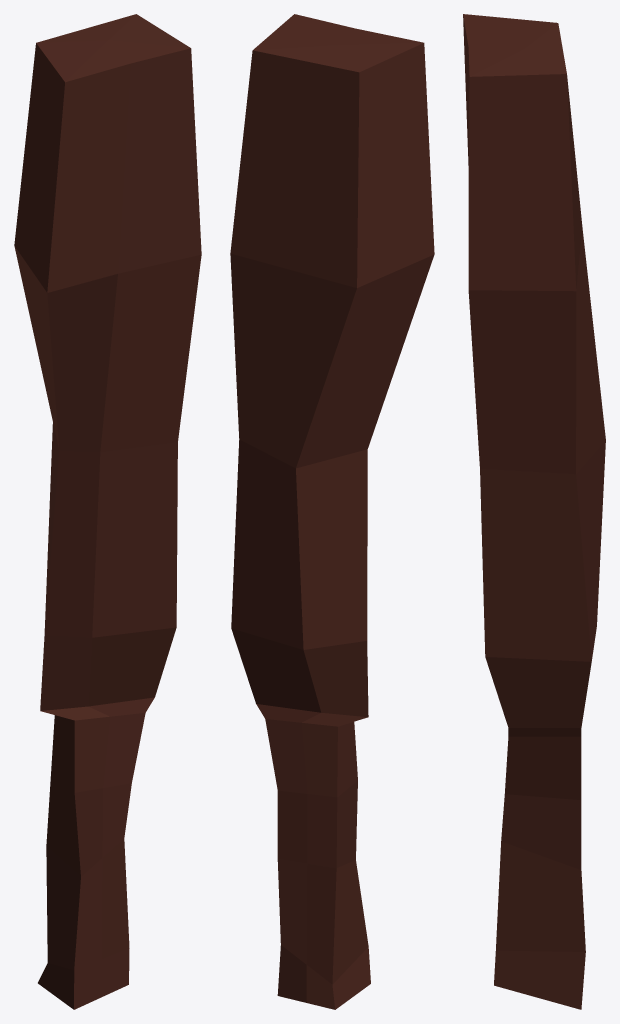
The model's file is woodClub.fbx.
3 views of the same model, side by side, from view 1: azimuth 30°, elevation 25°; view 2: azimuth 150°, elevation 25°; view 3: azimuth 270°, elevation 25° (orthographic). The views are drawn at different scales.
Parts seen in each view (by area): view 1: Cube; view 2: Cube; view 3: Cube.
Boxes of the visible parts, x1,y1,x2,y2 form: Cube: (14,14,201,1009); Cube: (230,14,434,1009); Cube: (463,14,605,1009).
Size of the model in its own units: 88.64 by 519 by 70.57.
